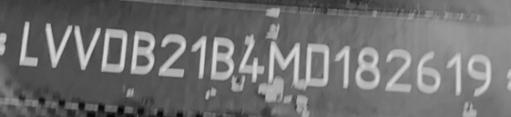letter: (265, 39, 301, 88), (43, 19, 73, 70), (72, 22, 101, 73), (302, 38, 331, 89), (100, 26, 128, 77), (157, 31, 187, 78), (383, 47, 414, 92), (464, 53, 495, 98), (236, 38, 265, 85), (353, 45, 382, 92), (414, 48, 443, 95), (129, 28, 156, 75), (209, 35, 234, 82), (17, 19, 40, 68), (443, 49, 465, 96), (333, 43, 352, 90), (189, 30, 207, 79)
